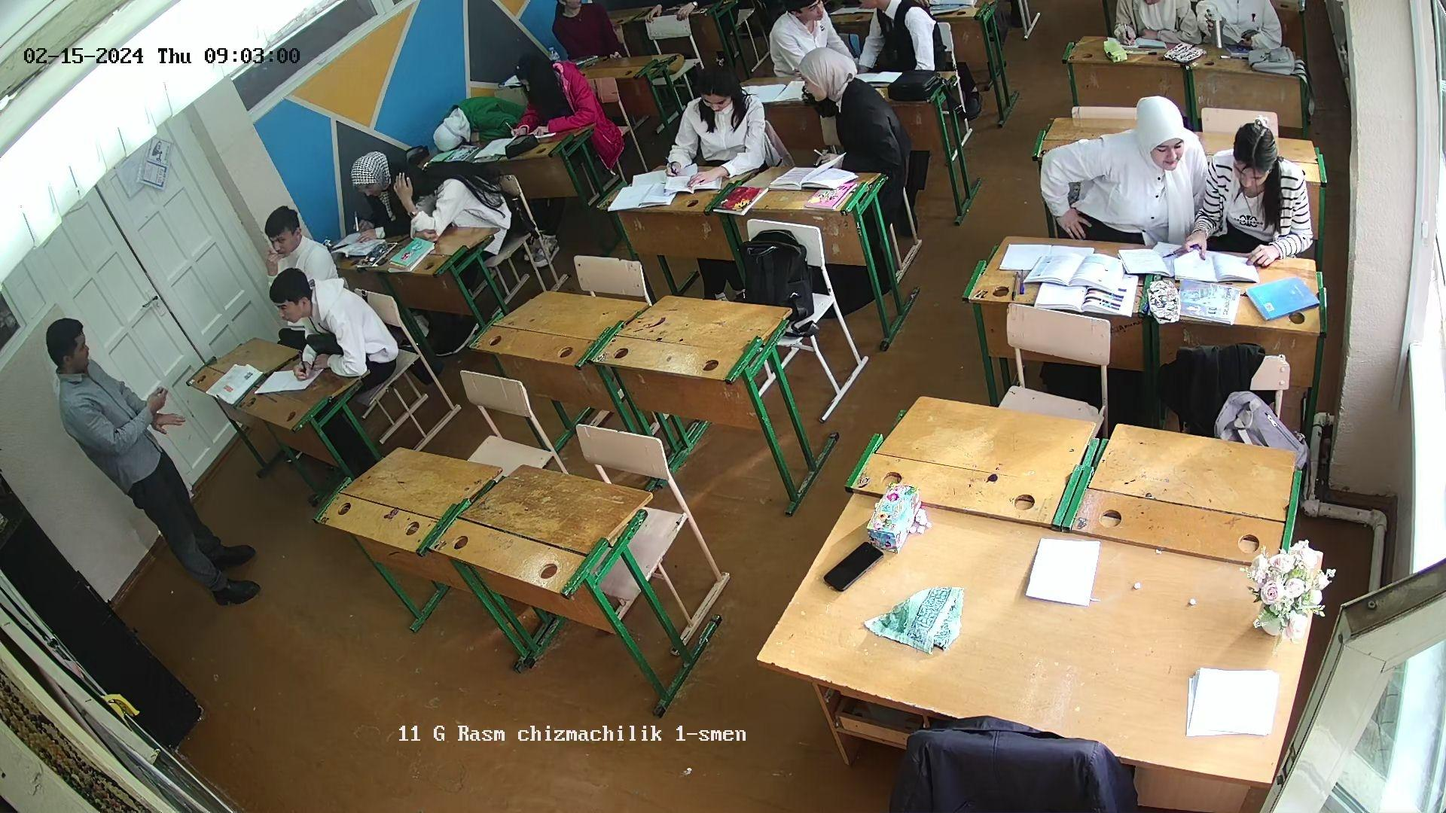Bend Over The Desk: (426, 92, 512, 154)
Look Around: (792, 51, 895, 164), (777, 2, 840, 48)
Normal: (1210, 123, 1307, 282), (267, 277, 399, 390), (654, 74, 768, 193), (514, 51, 610, 151)
Stand Up: (39, 316, 167, 468)
